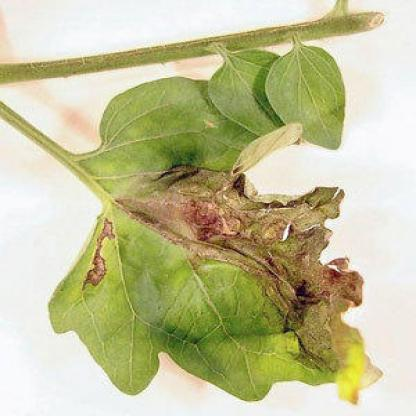tomato leaf late blight: (51, 170, 399, 409)
